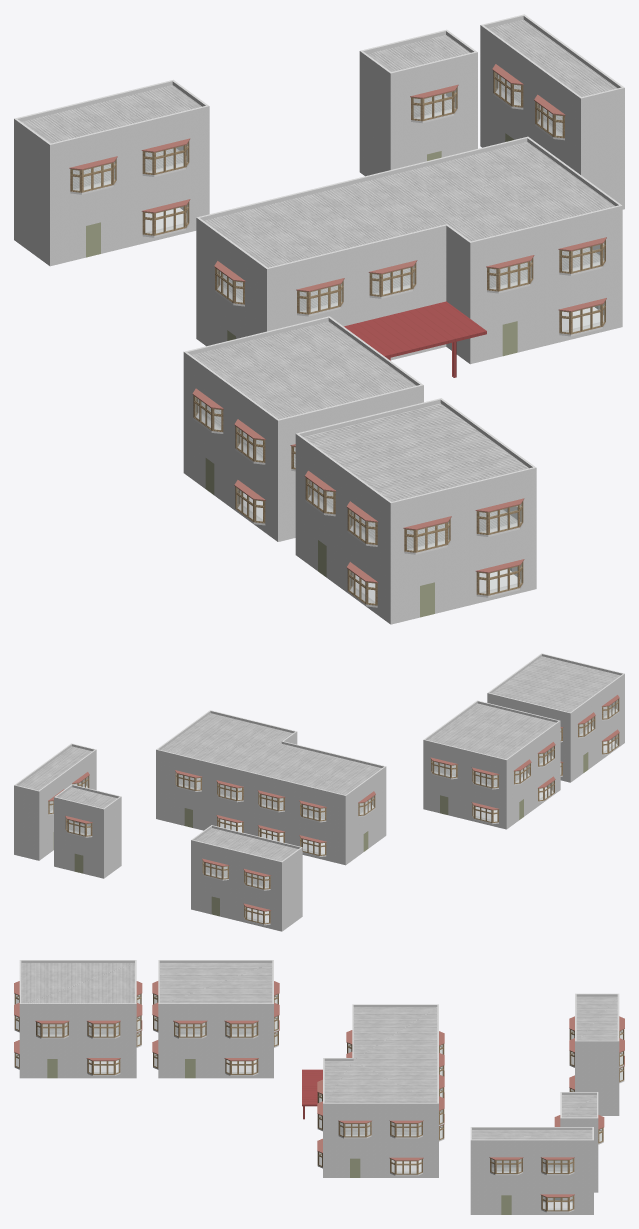
The model's file is Plan(REF)_levels(2)_window(W Splay Bay 23_5)_wall(WAFRA WALL)_quoin(N)_cornice(N).fbx.
3 renders of one model, top to bottom at view 1: azimuth 30°, elevation 25°; view 2: azimuth 150°, elevation 25°; view 3: azimuth 270°, elevation 25°, orthographic. The views are drawn at different scales.
Visible parts, largest first — view 1: WAFRA Stucco - White Rough 23, WAFRA Roof - Corrugated Sheet Matte 23, Wood - Millwork - Pine - Horizontal, Glass - Clear, Metal - Finish - Copper, WAFRA Roof - Standing Seam Red Coat 23, Color - White, Color - Beige; view 2: WAFRA Stucco - White Rough 23, WAFRA Roof - Corrugated Sheet Matte 23, Wood - Millwork - Pine - Horizontal, Glass - Clear, Metal - Finish - Copper, Color - White, Color - Beige; view 3: WAFRA Stucco - White Rough 23, WAFRA Roof - Corrugated Sheet Matte 23, Wood - Millwork - Pine - Horizontal, Glass - Clear, Metal - Finish - Copper, Color - White, Color - Beige, WAFRA Roof - Standing Seam Red Coat 23.
Part boxes in pixels (x1=…): WAFRA Stucco - White Rough 23: x1=14, y1=14, x2=624, y2=624; WAFRA Roof - Corrugated Sheet Matte 23: x1=21, y1=19, x2=617, y2=549; Wood - Millwork - Pine - Horizontal: x1=70, y1=71, x2=605, y2=605; Glass - Clear: x1=73, y1=72, x2=604, y2=603; Metal - Finish - Copper: x1=69, y1=64, x2=606, y2=582; WAFRA Roof - Standing Seam Red Coat 23: x1=344, y1=301, x2=486, y2=377; Color - White: x1=70, y1=89, x2=605, y2=607; Color - Beige: x1=86, y1=133, x2=517, y2=617; WAFRA Stucco - White Rough 23: x1=14, y1=653, x2=624, y2=931; WAFRA Roof - Corrugated Sheet Matte 23: x1=18, y1=656, x2=620, y2=887; Wood - Millwork - Pine - Horizontal: x1=48, y1=699, x2=619, y2=924; Glass - Clear: x1=50, y1=700, x2=617, y2=922; Metal - Finish - Copper: x1=48, y1=695, x2=619, y2=911; Color - White: x1=48, y1=709, x2=619, y2=925; Color - Beige: x1=53, y1=752, x2=588, y2=916; WAFRA Stucco - White Rough 23: x1=19, y1=960, x2=619, y2=1214; WAFRA Roof - Corrugated Sheet Matte 23: x1=21, y1=963, x2=617, y2=1171; Wood - Millwork - Pine - Horizontal: x1=14, y1=994, x2=624, y2=1211; Glass - Clear: x1=16, y1=994, x2=622, y2=1209; Metal - Finish - Copper: x1=14, y1=981, x2=624, y2=1197; Color - White: x1=14, y1=997, x2=624, y2=1212; Color - Beige: x1=47, y1=1059, x2=562, y2=1214; WAFRA Roof - Standing Seam Red Coat 23: x1=302, y1=1069, x2=322, y2=1119.
Bounding box in the file's own units: 4259 × 5945 × 800.
12 materials, 5 textured.
